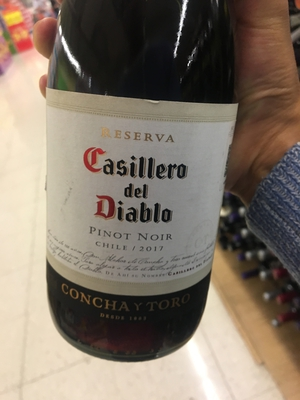casillero del diablo pinot noir: (44, 16, 243, 383)
